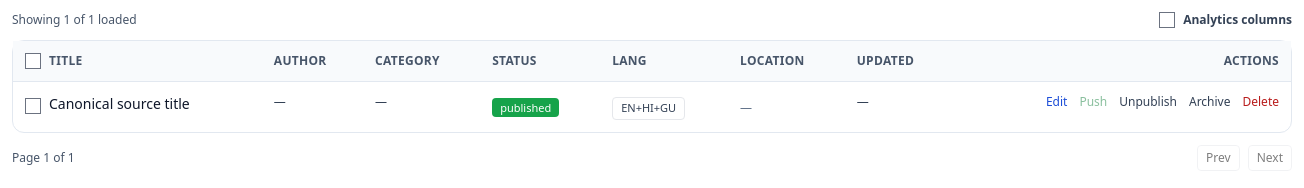
Test: NewsTable article push modal › deletes one grouped multilingual story with one backend request and removes the logical row after success
Click the button "Delete" at (1261, 102), box top-left (1242, 94), bottom-right (1279, 110)
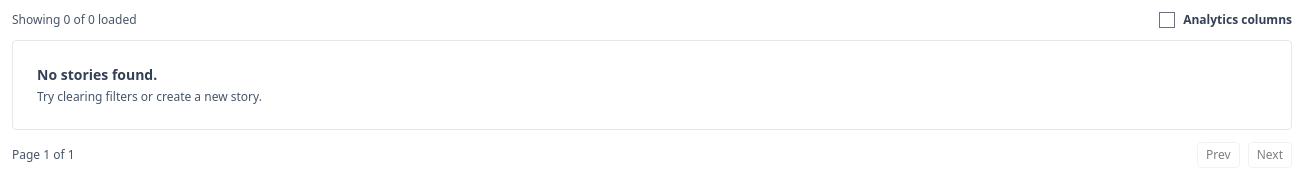
Result: the text "Canonical source title" is gone
